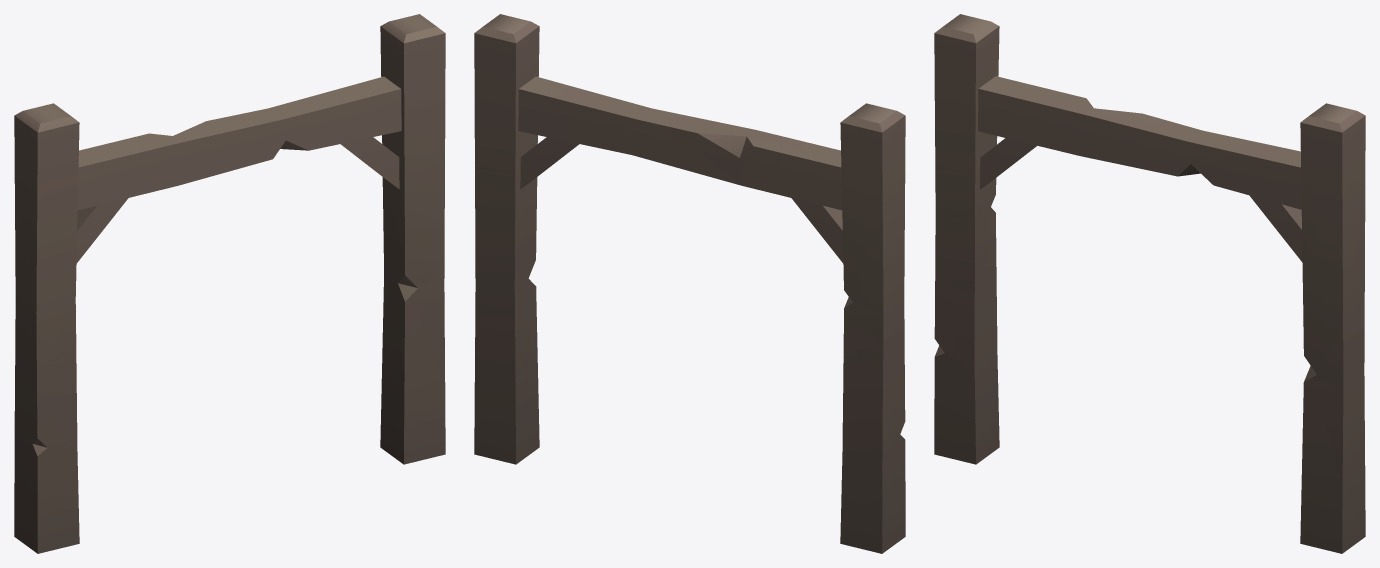
Rendered from wooden_gate.glb.
The picture shows the model from 3 angles, left to right: view 1: azimuth 30°, elevation 25°; view 2: azimuth 150°, elevation 25°; view 3: azimuth 330°, elevation 25°; orthographic projection.
Visible parts, largest first — view 1: wooden_gate; view 2: wooden_gate; view 3: wooden_gate.
Part boxes in pixels (<box>): wooden_gate: <box>14,14,445,553</box>; wooden_gate: <box>474,14,905,553</box>; wooden_gate: <box>934,14,1365,553</box>.
Bounding box in the file's own units: 4 × 4 × 0.3999.
1 material, 1 textured.
